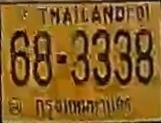3: (91, 28, 110, 85), (70, 29, 89, 85), (113, 28, 131, 84)
6: (10, 30, 30, 86)
8: (32, 31, 52, 86), (134, 28, 153, 84)
BKK: (31, 91, 133, 118)
